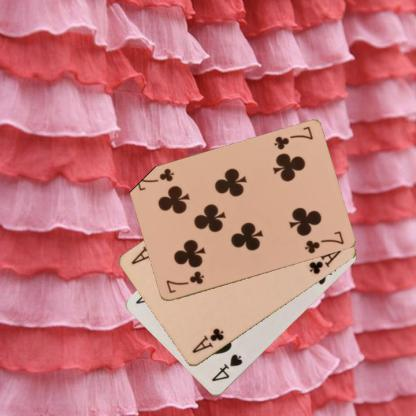4s: (208, 352, 244, 383)
7c: (271, 124, 314, 152), (163, 269, 206, 295)
Ac: (189, 325, 225, 355)
